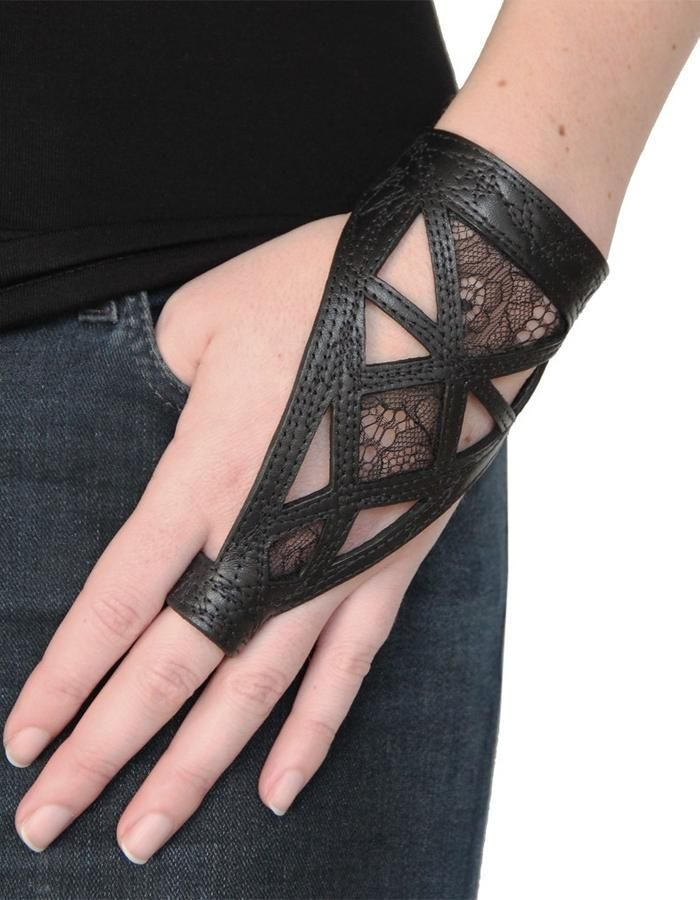cuero: (167, 130, 610, 659)
